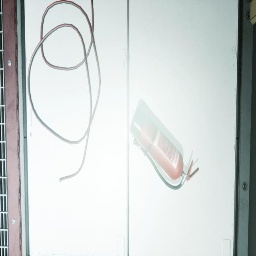FireExtinguisher ]: (130, 106, 199, 190)
